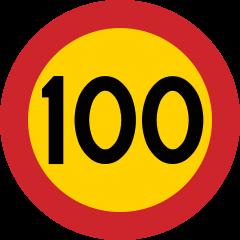Speed Limit -100-: (29, 68, 207, 176)
